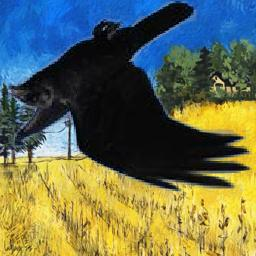Crow: (4, 2, 253, 195)
